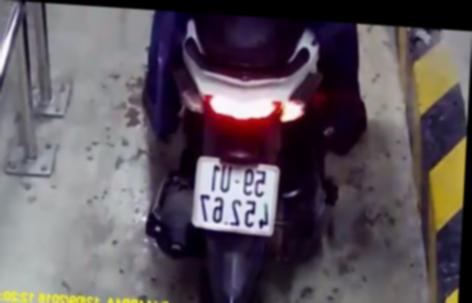License_Plate: (183, 150, 289, 238)
